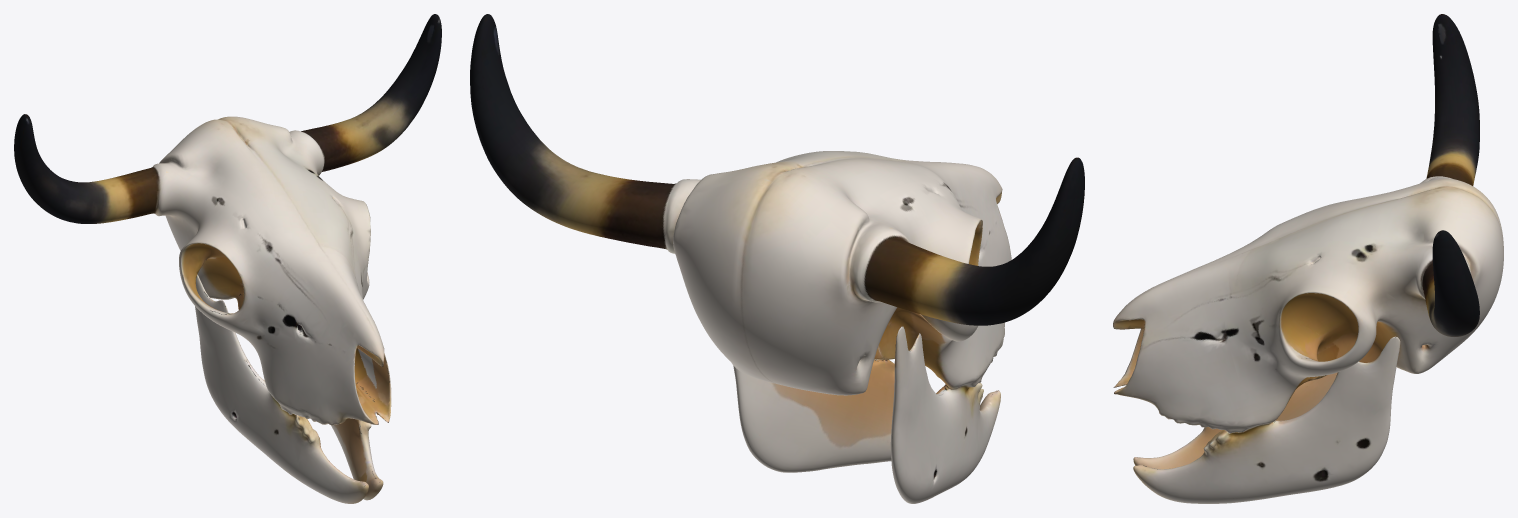
Rendered from cow-skull.glb.
3 views of the same model, side by side, from view 1: azimuth 30°, elevation 25°; view 2: azimuth 150°, elevation 25°; view 3: azimuth 270°, elevation 25° (orthographic). The views are drawn at different scales.
Visible parts, largest first — view 1: model; view 2: model; view 3: model.
Boxes of the visible parts, bbox=[...] form: model: bbox=[14, 14, 441, 503]; model: bbox=[470, 14, 1084, 503]; model: bbox=[1113, 14, 1503, 503].
Size of the model in its own units: 1.9 by 1.49 by 1.41.
Materials: 1 (1 with a texture image).
